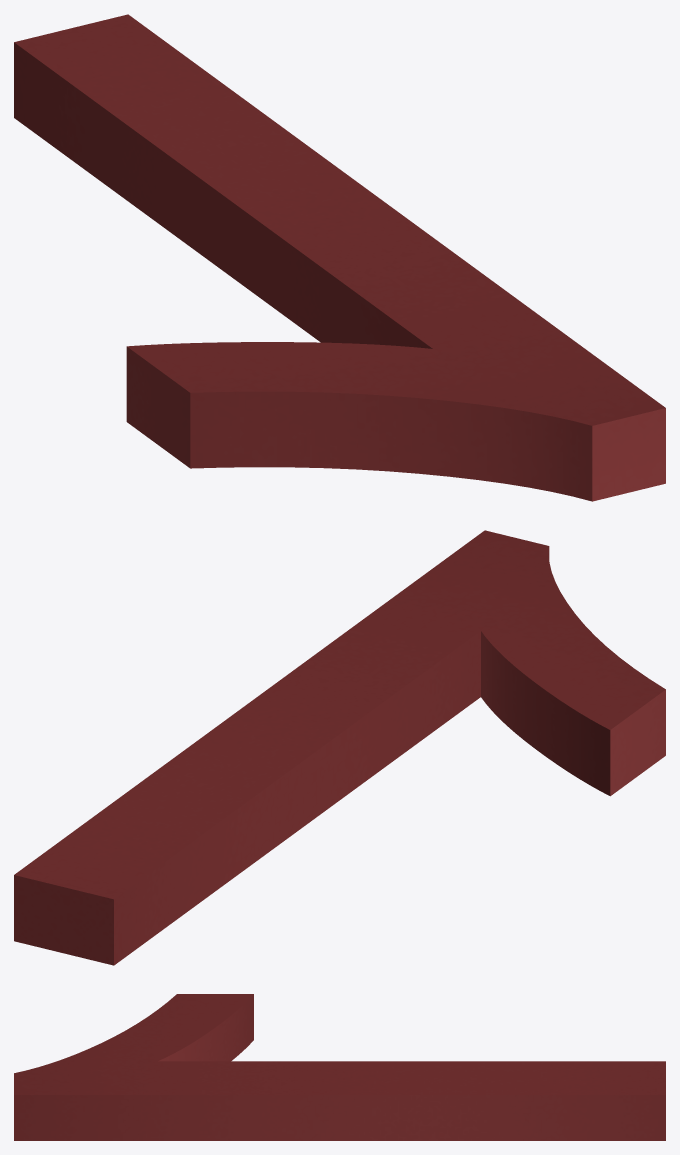
File: one.obj
The picture shows the model from 3 angles, top to bottom: view 1: azimuth 30°, elevation 25°; view 2: azimuth 150°, elevation 25°; view 3: azimuth 270°, elevation 25°; orthographic projection. The views are drawn at different scales.
Parts seen in each view (by area): view 1: one; view 2: one; view 3: one.
Boxes of the visible parts, x1,y1,x2,y2 form: one: (14,14,665,501); one: (14,530,665,965); one: (14,994,665,1140).
Bounding box in the file's own units: 23.6 × 5 × 64.4.
Materials: 1 (1 with a texture image).
